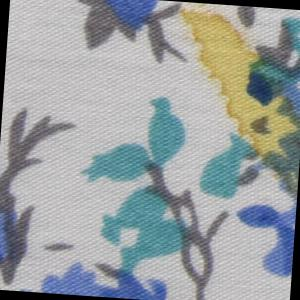Oil Stain: (166, 2, 300, 196)
